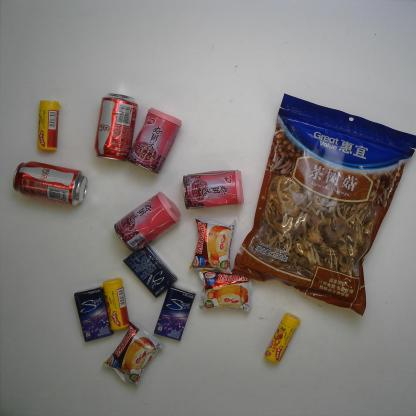Candy: (264, 313, 303, 364), (102, 274, 132, 333), (34, 100, 64, 154)
Canned Food: (112, 190, 183, 254), (127, 106, 186, 174), (178, 163, 246, 212)
Dessert: (102, 319, 164, 389), (194, 264, 258, 316), (188, 216, 241, 276)
Dried Food: (229, 85, 415, 317)
Drink: (7, 157, 92, 207), (94, 87, 145, 161)
Gum: (122, 244, 180, 298), (70, 284, 114, 346), (153, 286, 197, 343)
